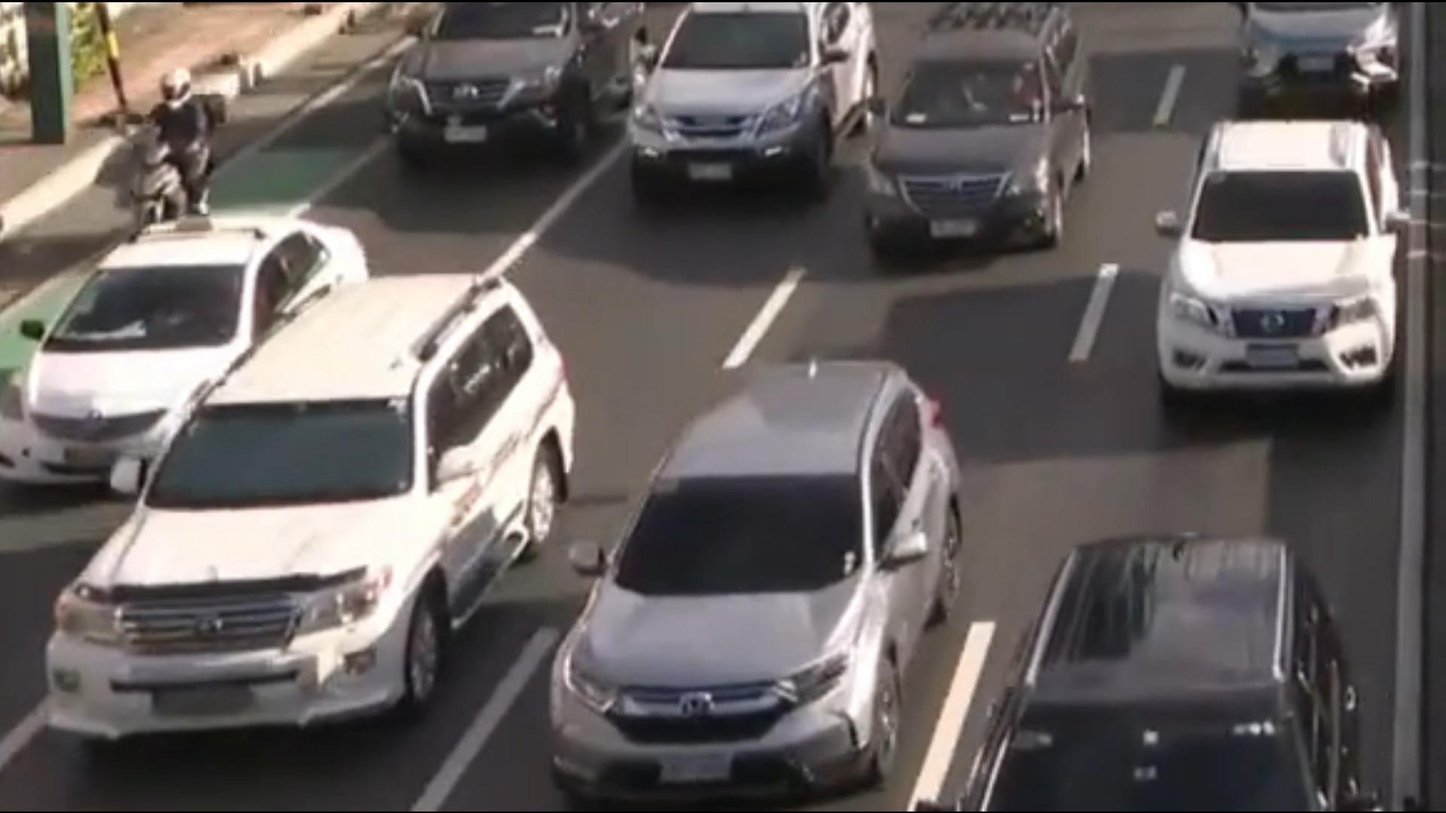Motorcycle: (104, 46, 255, 252)
Pickup: (1143, 102, 1444, 401)
SUV: (6, 258, 631, 779), (487, 335, 1013, 800), (941, 512, 1414, 813), (844, 6, 1109, 271), (599, 0, 896, 230), (396, 0, 635, 189)
